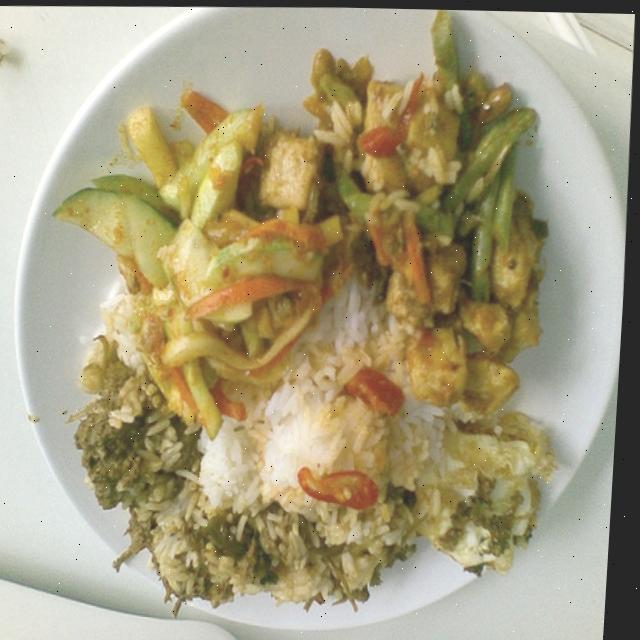米饭主食: (0, 5, 633, 636)
